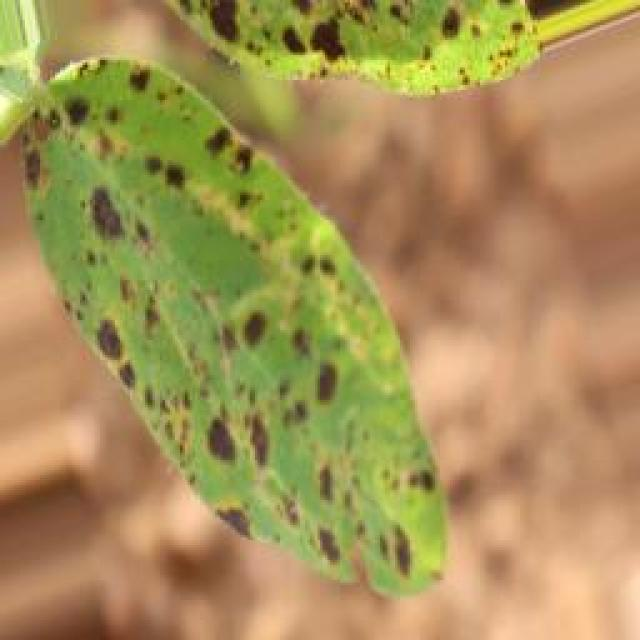Yellowish: (24, 0, 535, 575)
